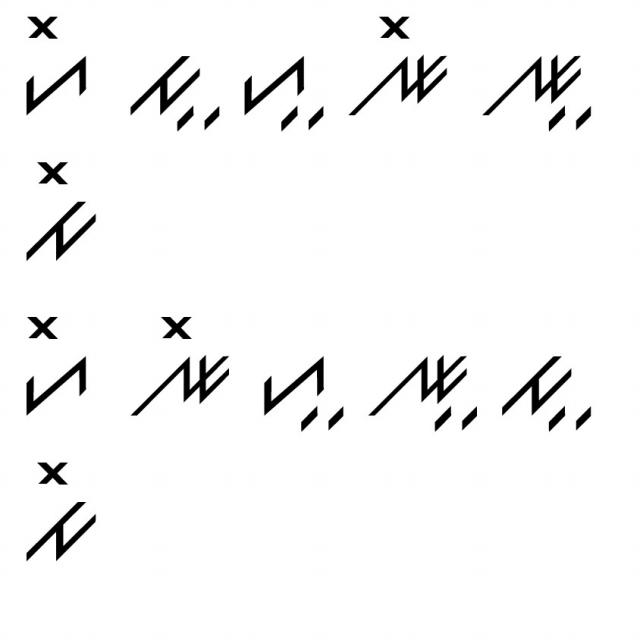hah: (233, 42, 329, 134), (257, 350, 350, 437)
ho: (16, 14, 95, 121), (20, 308, 96, 418)
mbah: (488, 346, 594, 443), (118, 46, 224, 140)
mbo: (19, 453, 122, 565), (13, 155, 104, 265)
ndah: (476, 38, 598, 152), (364, 345, 480, 440)
ndo: (348, 12, 452, 126), (130, 310, 238, 418)
